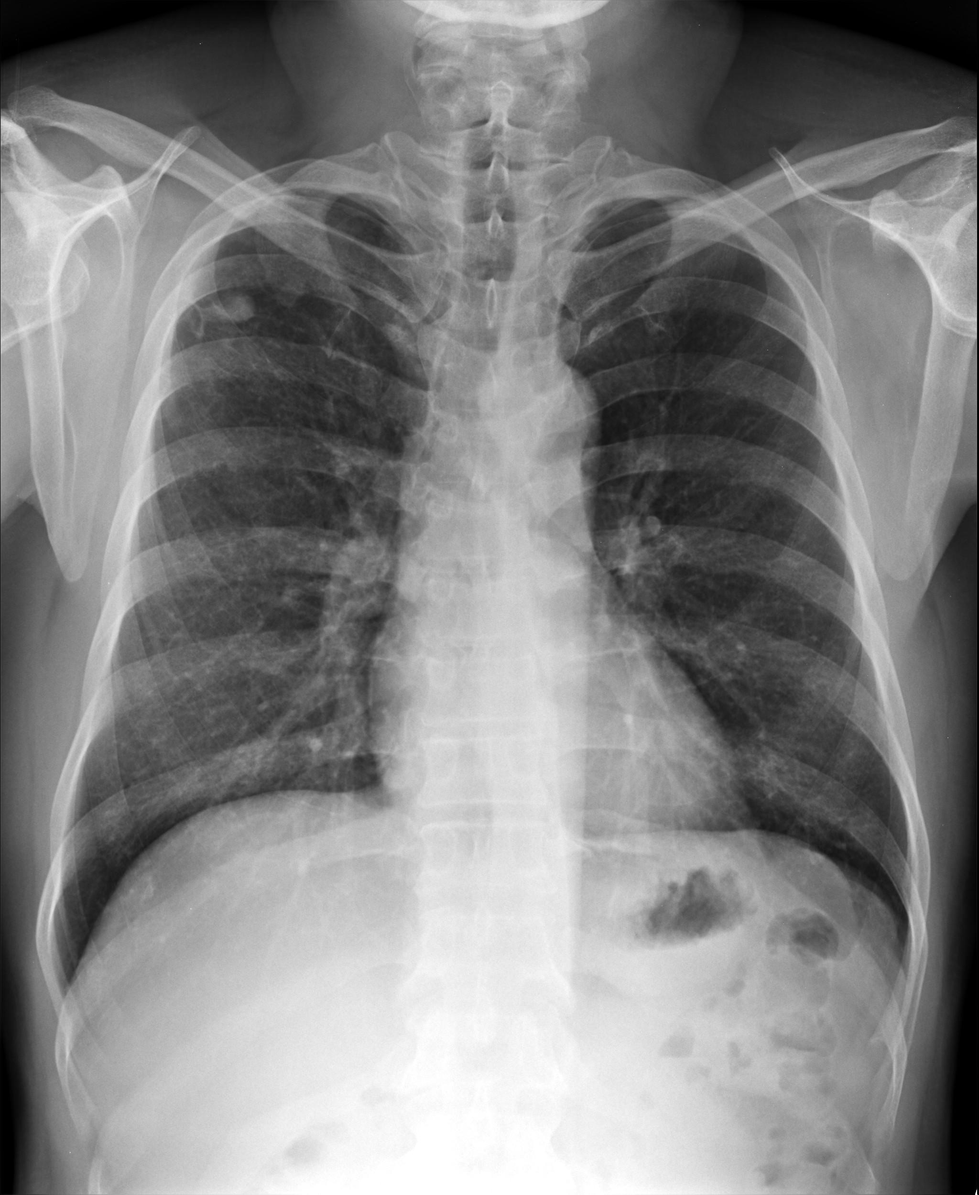Pleural thickening: (228, 196, 282, 219)
Pulmonary fibrosis: (190, 294, 255, 337)
